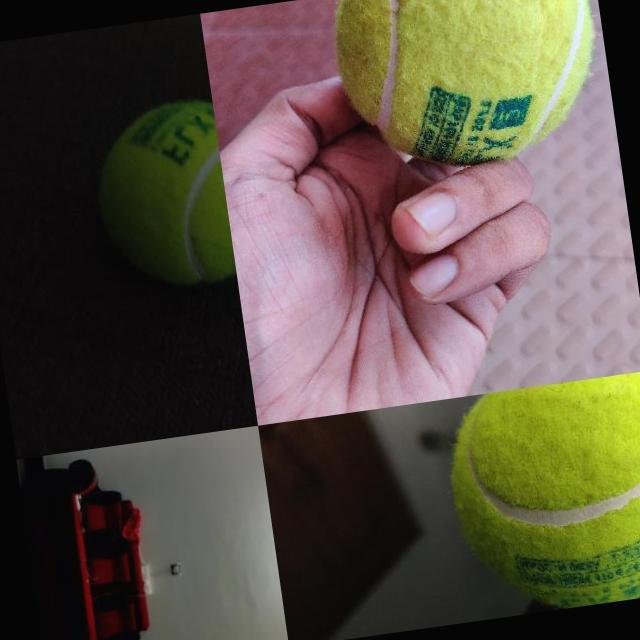Tennis Ball: (326, 0, 612, 184), (439, 371, 640, 621), (85, 96, 238, 297)
